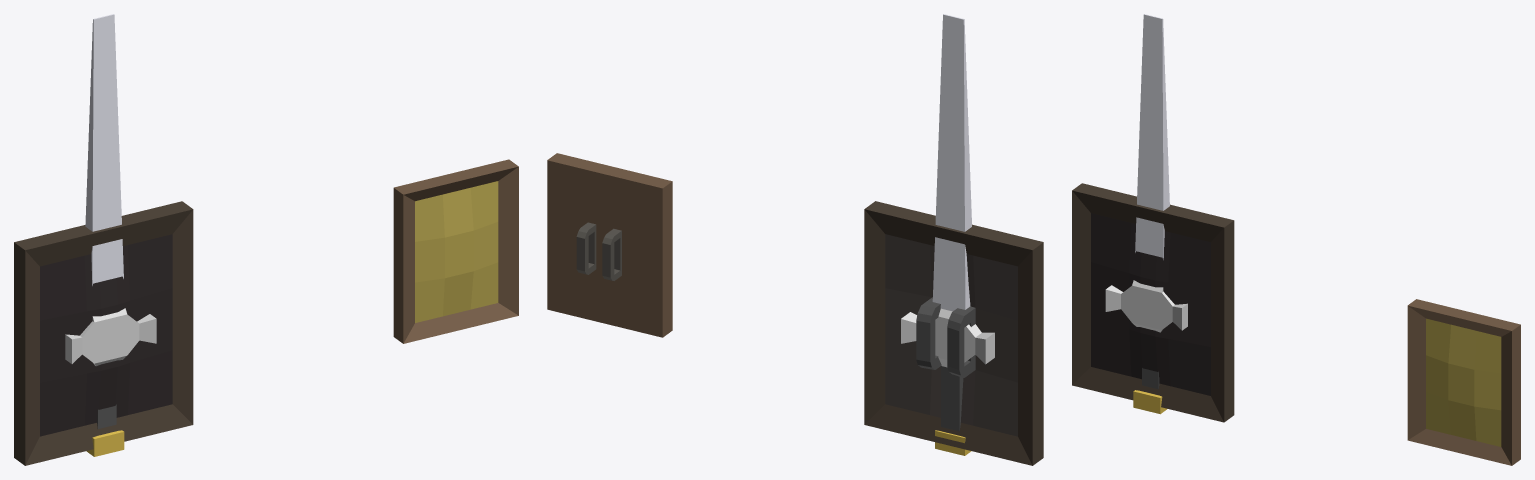
Rendered from arshvir_sword.glb.
3 renders of one model, left to right at view 1: azimuth 30°, elevation 25°; view 2: azimuth 150°, elevation 25°; view 3: azimuth 330°, elevation 25°, orthographic. The views are drawn at different scales.
Parts seen in each view (by area): view 1: Shield-noimp, Shield_1-noimp, Sword; view 2: Shield-noimp, Shield_1-noimp, Sword; view 3: Shield-noimp, Shield_1-noimp, Sword.
Boxes of the visible parts, box(x1,y1,x2,y2) form: Shield-noimp: box(14, 201, 193, 465); Shield_1-noimp: box(393, 159, 518, 343); Sword: box(65, 14, 156, 456); Shield-noimp: box(864, 201, 1043, 465); Shield_1-noimp: box(547, 153, 672, 337); Sword: box(901, 14, 994, 455); Shield-noimp: box(1072, 183, 1234, 422); Shield_1-noimp: box(1407, 299, 1520, 465); Sword: box(1105, 14, 1187, 414).
Size of the model in its own units: 4.37 by 3.68 by 0.412.
